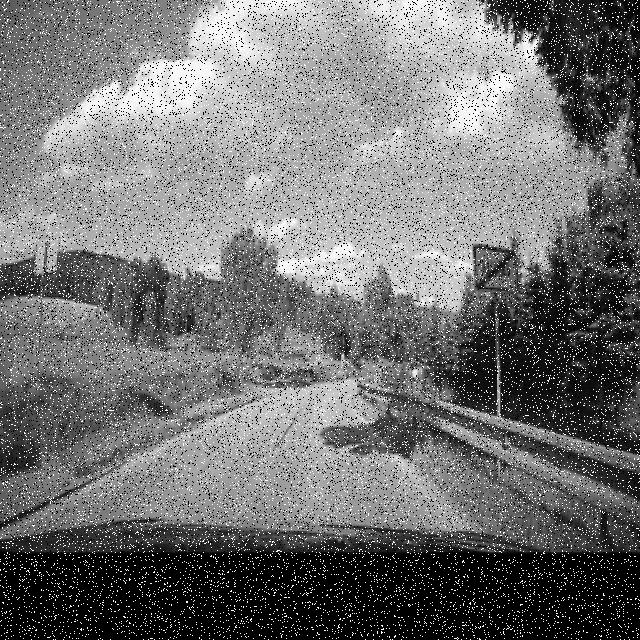clear-road: (0, 380, 481, 539)
